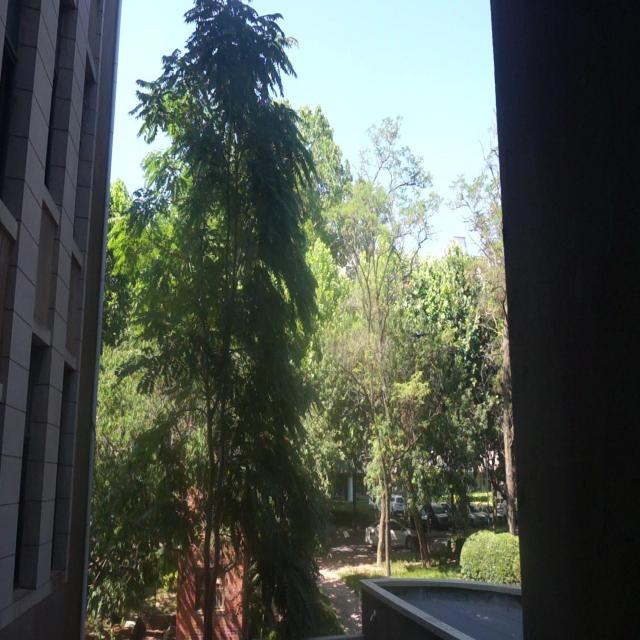UAV: (413, 332, 426, 338)
